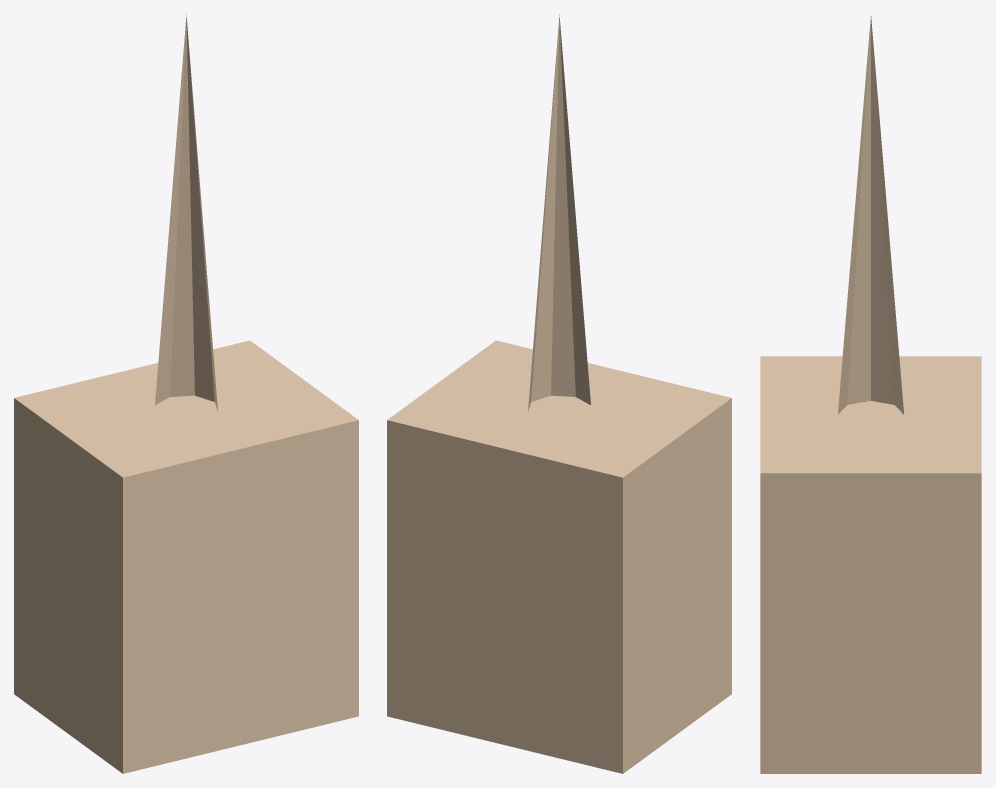
File: sagrada-familia.glb
The picture shows the model from 3 angles, left to right: view 1: azimuth 30°, elevation 25°; view 2: azimuth 150°, elevation 25°; view 3: azimuth 270°, elevation 25°; orthographic projection.
Visible parts, largest first — view 1: sagrada-familia; view 2: sagrada-familia; view 3: sagrada-familia.
Part boxes in pixels (x1=…): sagrada-familia: x1=14, y1=14, x2=358, y2=773; sagrada-familia: x1=387, y1=14, x2=731, y2=773; sagrada-familia: x1=760, y1=16, x2=981, y2=773.
Bounding box in the file's own units: 0.5 × 1.4 × 0.4.
